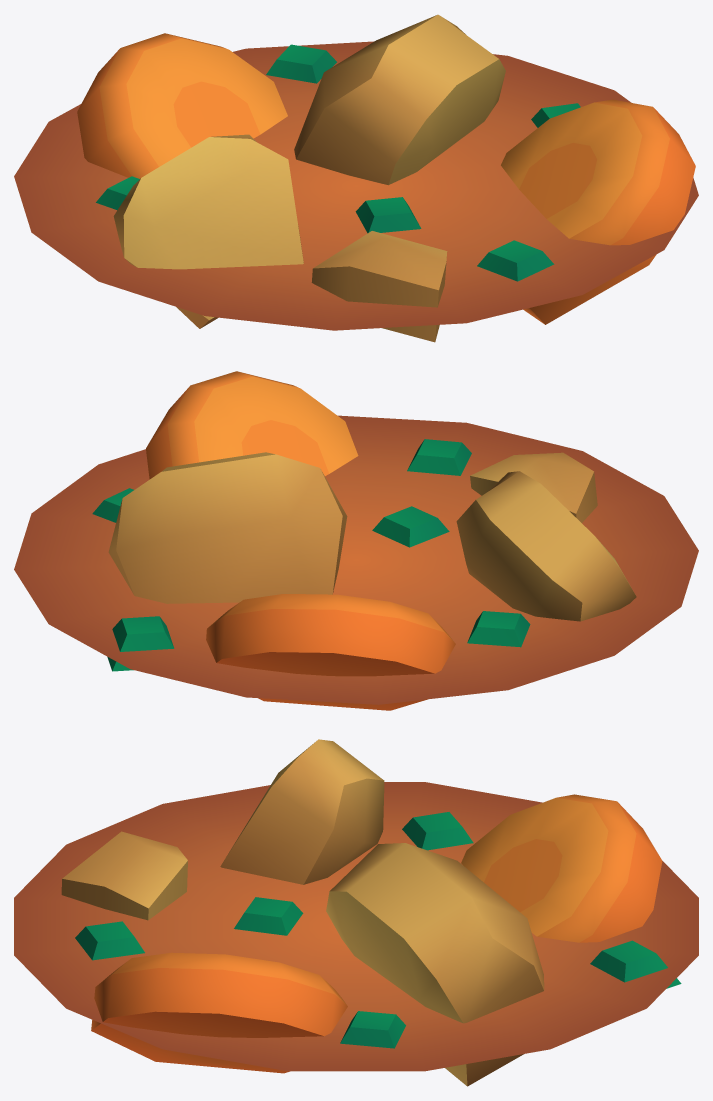
File: Stew.glb
3 views of the same model, one above another, from view 1: azimuth 30°, elevation 25°; view 2: azimuth 150°, elevation 25°; view 3: azimuth 270°, elevation 25° (orthographic).
Parts seen in each view (by area): view 1: stew_pot; view 2: stew_pot; view 3: stew_pot.
Part boxes in pixels (x1,y1,x2,y2): stew_pot: [14, 14, 698, 342]; stew_pot: [14, 371, 698, 710]; stew_pot: [14, 739, 698, 1086].
Size of the model in its own units: 0.737 by 0.25 by 0.737.
1 material, 1 textured.
